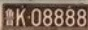K: (16, 9, 25, 27)
